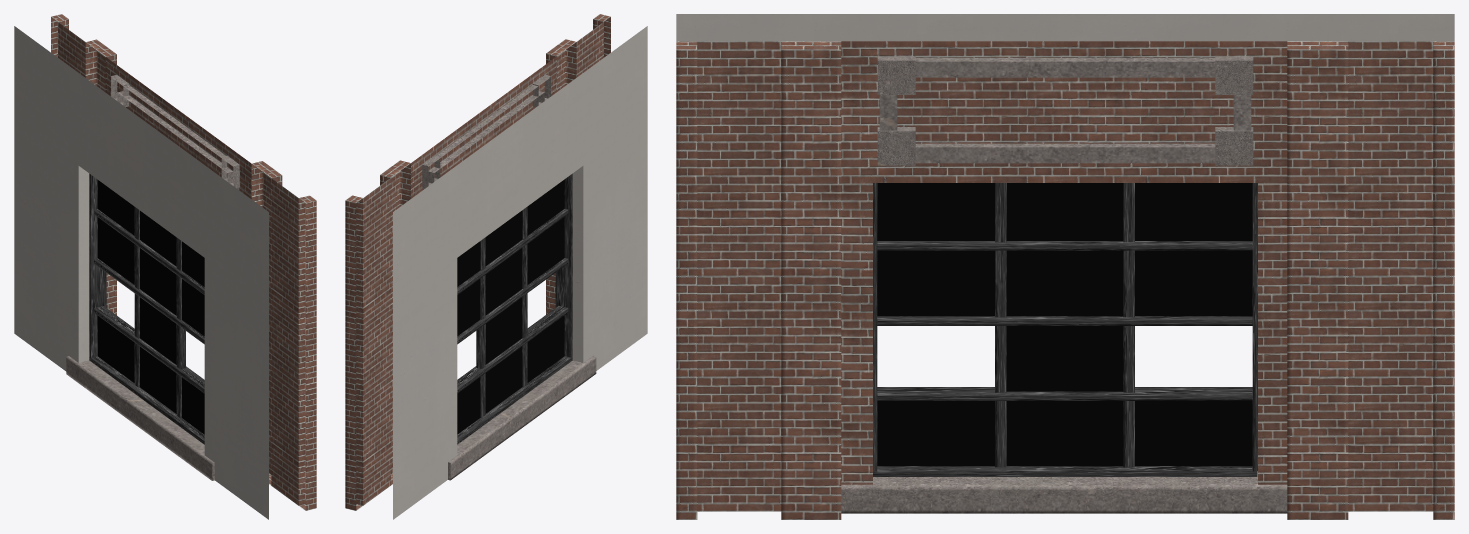
Rendered from BuildingB_Center_Wall_VarA_mdl.fbx.
3 views of the same model, side by side, from view 1: azimuth 30°, elevation 25°; view 2: azimuth 150°, elevation 25°; view 3: azimuth 270°, elevation 25° (orthographic). The views are drawn at different scales.
Parts seen in each view (by area): view 1: BuildingB_Center_Wall_VarA_LOD0; view 2: BuildingB_Center_Wall_VarA_LOD0; view 3: BuildingB_Center_Wall_VarA_LOD0.
Boxes of the visible parts, left/top/right/bottom form: BuildingB_Center_Wall_VarA_LOD0: left=14, top=14, right=316, bottom=519; BuildingB_Center_Wall_VarA_LOD0: left=345, top=14, right=647, bottom=519; BuildingB_Center_Wall_VarA_LOD0: left=676, top=14, right=1454, bottom=519.
Size of what is drawn, in the model's own units: 68.74 by 400 by 600.
